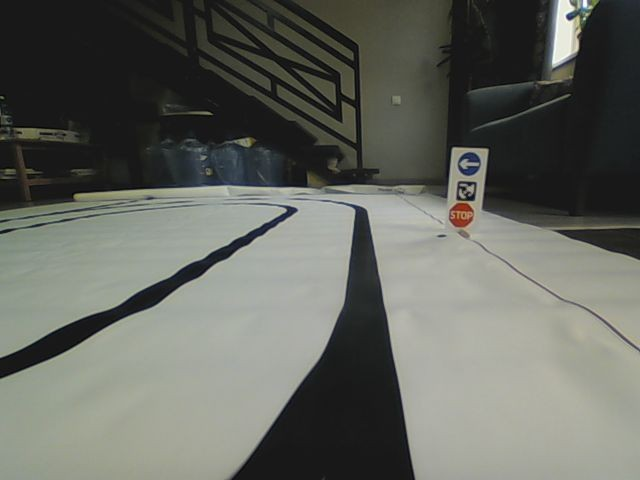Stop: (446, 201, 476, 228)
